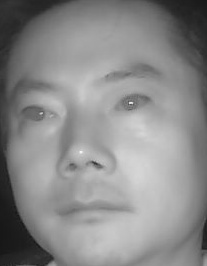eye: (112, 91, 153, 115), (18, 103, 58, 127)
mouth: (53, 187, 132, 231)
